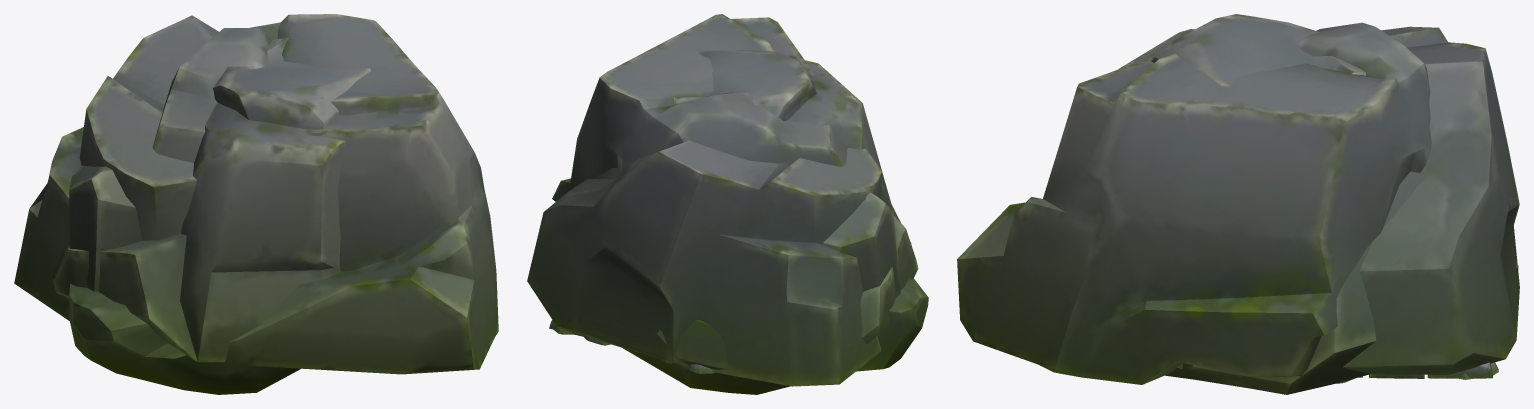
File: nature_rocks.glb
3 renders of one model, left to right at view 1: azimuth 30°, elevation 25°; view 2: azimuth 150°, elevation 25°; view 3: azimuth 270°, elevation 25°, orthographic. The views are drawn at different scales.
Visible parts, largest first — view 1: Rock_Medium_3, Rock_Medium_1, Rock_Medium_2; view 2: Rock_Medium_2, Rock_Medium_3, Rock_Medium_1, RockPath_Round_Wide; view 3: Rock_Medium_3, Rock_Medium_2, Rock_Medium_1, RockPath_Square_Wide.
Boxes of the visible parts, x1,y1,x2,y2 form: Rock_Medium_3: (69, 14, 498, 394); Rock_Medium_1: (52, 38, 370, 362); Rock_Medium_2: (14, 15, 218, 320); Rock_Medium_2: (527, 140, 882, 386); Rock_Medium_3: (552, 14, 928, 371); Rock_Medium_1: (573, 50, 918, 394); RockPath_Round_Wide: (554, 326, 714, 373); Rock_Medium_3: (957, 22, 1431, 384); Rock_Medium_2: (1343, 26, 1519, 374); Rock_Medium_1: (1118, 14, 1518, 394); RockPath_Square_Wide: (1359, 362, 1492, 378).
Bounding box in the file's own units: 3.42 × 2.32 × 3.74.
2 materials, 2 textured.
